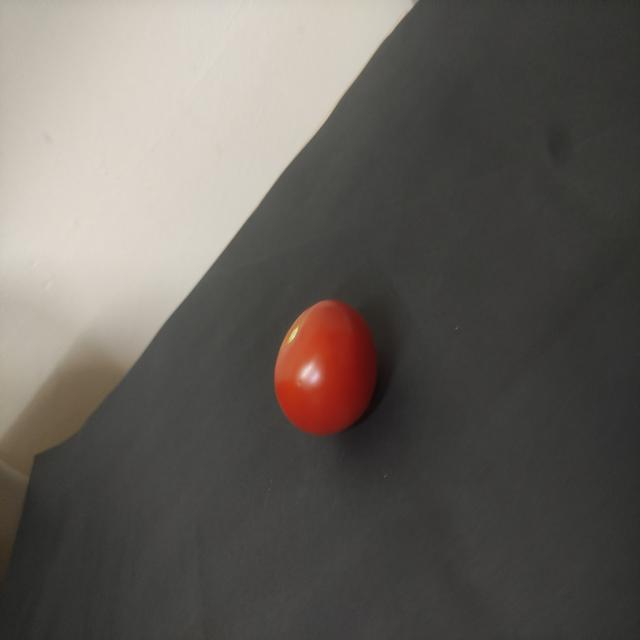kirmizi: (272, 289, 384, 463)
